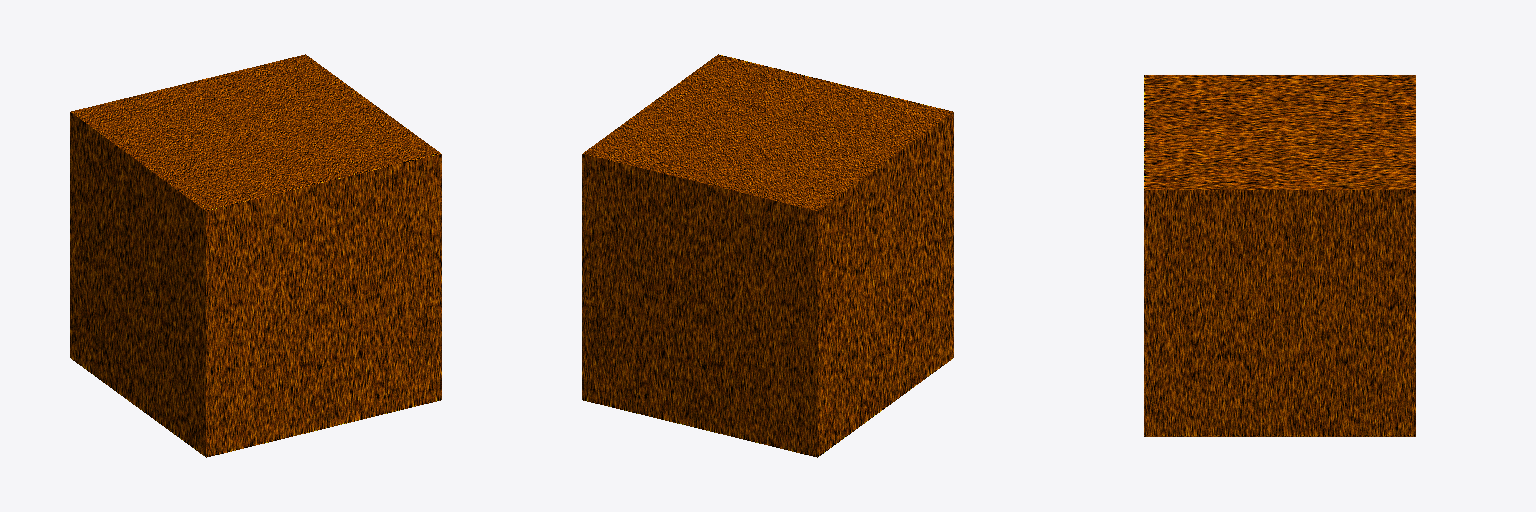
The picture shows the model from 3 angles: view 1: azimuth 30°, elevation 25°; view 2: azimuth 150°, elevation 25°; view 3: azimuth 270°, elevation 25°; orthographic projection.
Visible parts, largest first — view 1: Cube; view 2: Cube; view 3: Cube.
Part boxes in pixels (x1,y1,x2,y2): Cube: (70, 54, 441, 457); Cube: (582, 54, 953, 457); Cube: (1144, 75, 1415, 436).
Size of the model in its own units: 2 by 2 by 2.
Materials: 1 (1 with a texture image).